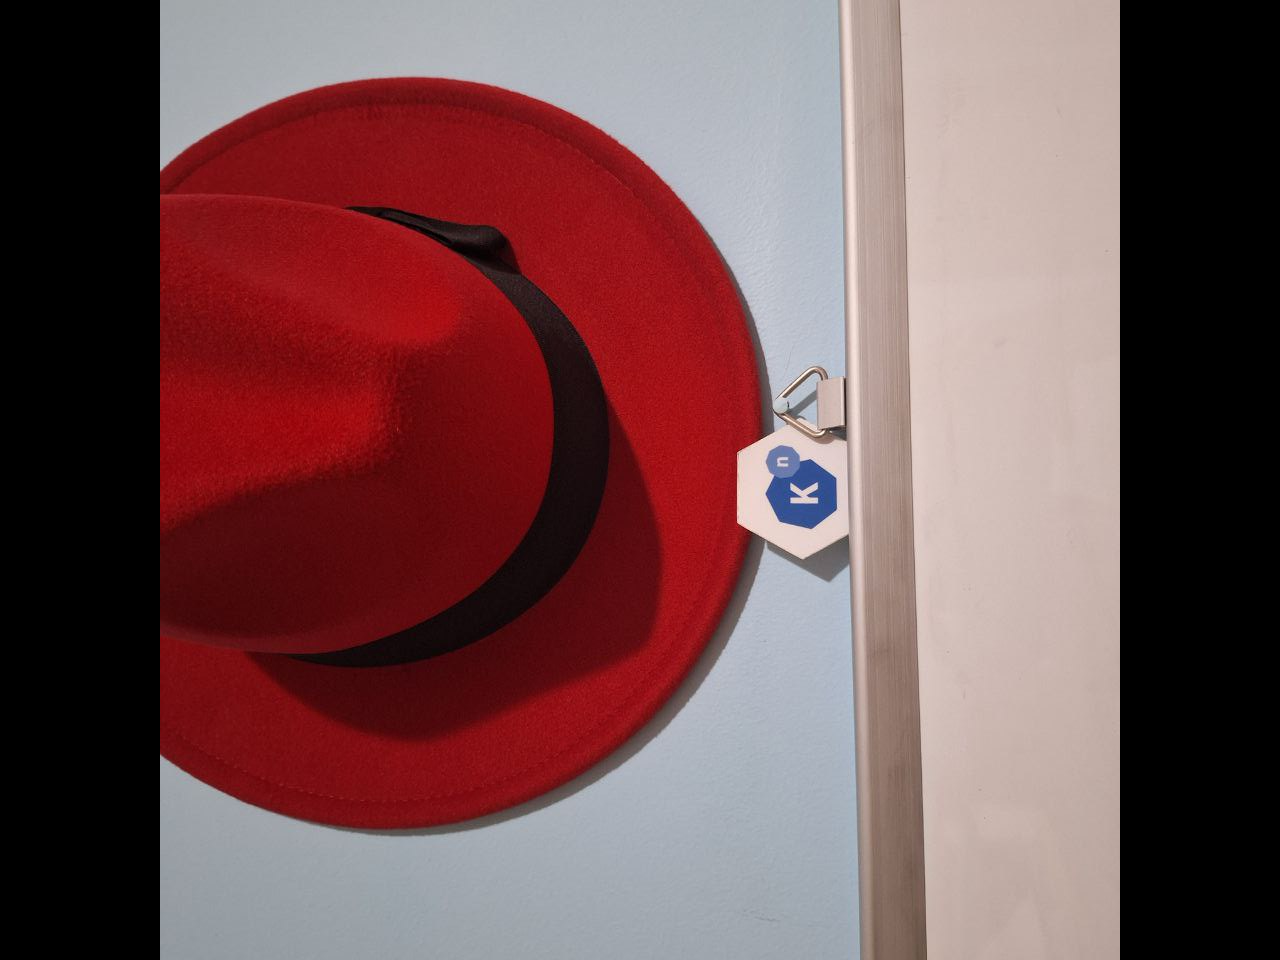knative: (762, 444, 837, 529)
